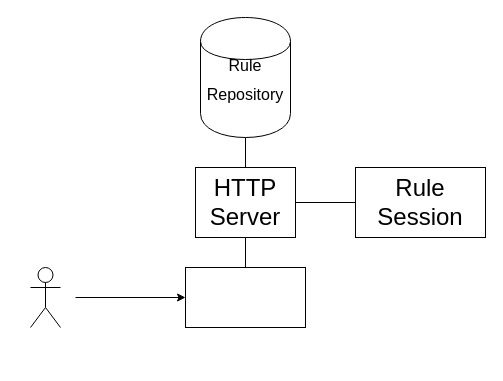
The diagram is 503 pixels wide and 381 high, and some of its shapes have lost their labels. The shapes that lost their labels are listed below. From the top down, each one's box as (x1, y1, x2, y2) in pixels, then its label:
(30, 266, 60, 328): Actor
(184, 266, 306, 328): Flowchart Builder
